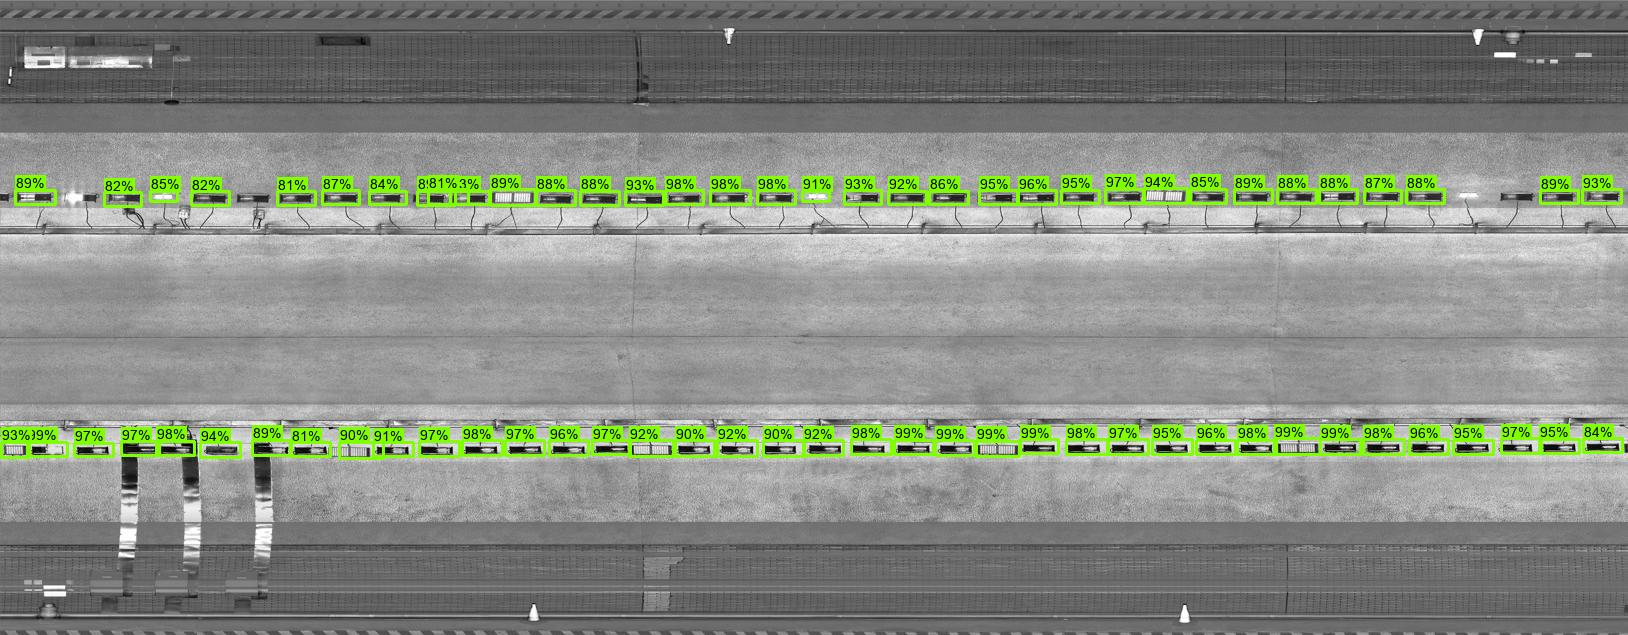light: (488, 188, 536, 209), (1141, 187, 1187, 206), (327, 442, 373, 461), (627, 441, 673, 460), (974, 441, 1020, 460), (1275, 437, 1321, 455), (104, 189, 145, 205), (230, 190, 272, 206), (318, 189, 359, 205), (447, 191, 489, 208), (756, 190, 797, 206), (973, 189, 1014, 205), (1017, 189, 1059, 205), (1102, 189, 1143, 205), (1187, 190, 1228, 206), (1318, 189, 1359, 205), (1404, 188, 1445, 204), (1536, 190, 1577, 206), (1405, 439, 1446, 455), (12, 189, 53, 205), (61, 191, 102, 208), (190, 189, 230, 205), (276, 190, 317, 206), (364, 191, 405, 208), (407, 191, 447, 208), (579, 191, 620, 208), (663, 191, 704, 208), (707, 191, 748, 208), (841, 190, 881, 206), (929, 190, 970, 206), (1058, 190, 1098, 206), (1231, 190, 1272, 206), (1275, 188, 1315, 204), (1361, 190, 1402, 206), (1496, 190, 1537, 206), (1582, 188, 1623, 204), (536, 192, 577, 208), (73, 443, 114, 459), (158, 442, 199, 458), (289, 443, 330, 459), (371, 444, 412, 460), (459, 443, 500, 459), (506, 441, 547, 457), (589, 442, 630, 458), (674, 442, 715, 458), (805, 441, 846, 457), (888, 192, 929, 208), (893, 441, 934, 457), (1020, 440, 1061, 455), (1107, 440, 1148, 455), (1237, 440, 1278, 455), (1320, 440, 1361, 455), (1539, 440, 1580, 455), (625, 192, 666, 208), (29, 443, 70, 459), (118, 442, 159, 458), (201, 443, 242, 459), (251, 442, 292, 458), (416, 444, 457, 460), (548, 441, 589, 457), (716, 442, 757, 458), (760, 441, 801, 457), (848, 440, 889, 455), (935, 441, 976, 457), (1062, 441, 1103, 457), (1151, 441, 1192, 457), (1196, 441, 1237, 457), (1363, 440, 1404, 455), (1451, 440, 1492, 455), (1494, 441, 1535, 457), (1583, 440, 1624, 455), (1, 443, 29, 458), (1454, 190, 1484, 203), (803, 190, 831, 202), (151, 192, 178, 203), (1, 188, 12, 203)
